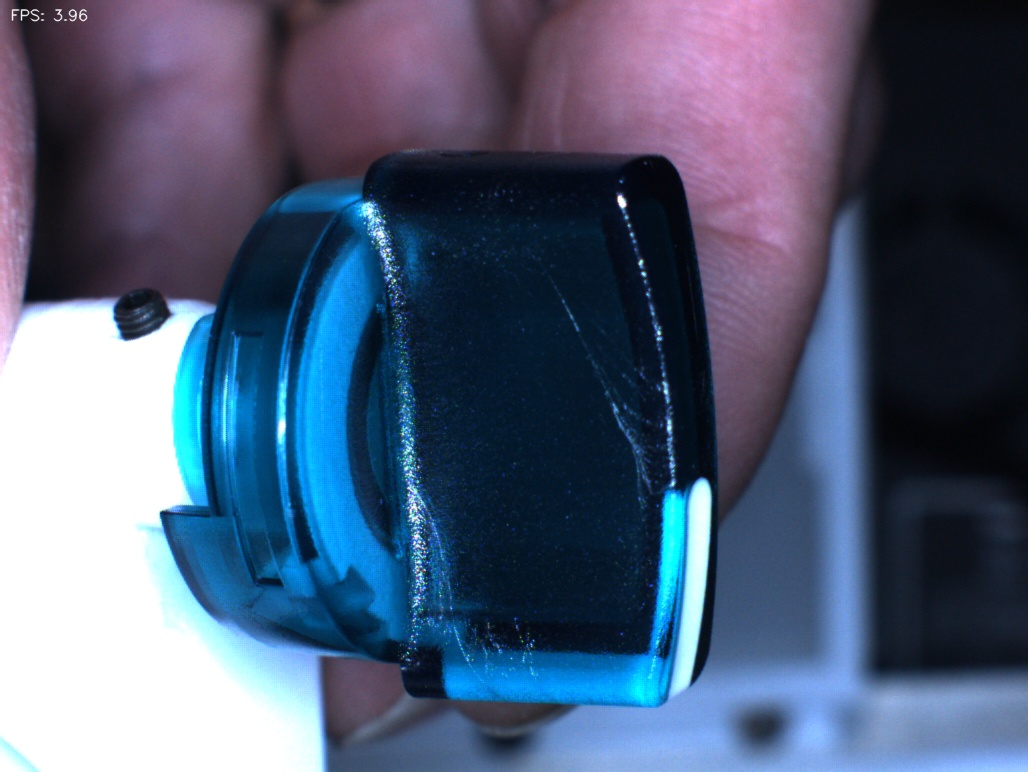Givrage: (444, 601, 551, 681)
